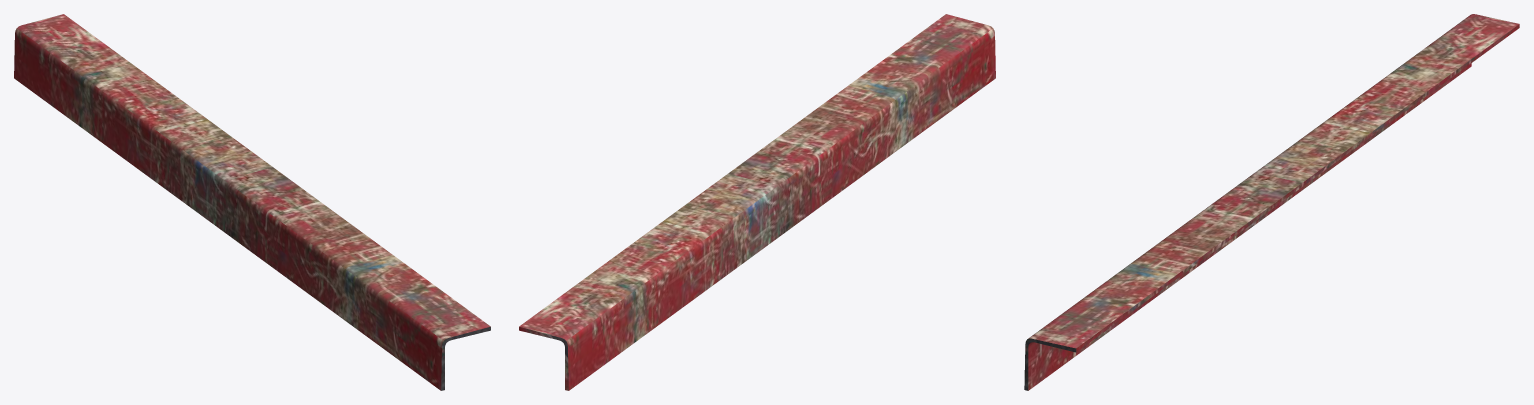
File: MOD_WallProtect_800.FBX
3 views of the same model, side by side, from view 1: azimuth 30°, elevation 25°; view 2: azimuth 150°, elevation 25°; view 3: azimuth 330°, elevation 25° (orthographic). The views are drawn at different scales.
Parts seen in each view (by area): view 1: MOD_WallProtect_800; view 2: MOD_WallProtect_800; view 3: MOD_WallProtect_800.
Part boxes in pixels (x1,y1,x2,y2): MOD_WallProtect_800: (14,14,490,390); MOD_WallProtect_800: (519,14,995,390); MOD_WallProtect_800: (1024,14,1519,390).
Bounding box in the file's own units: 54.07 × 54.07 × 802.
1 material, 1 textured.
